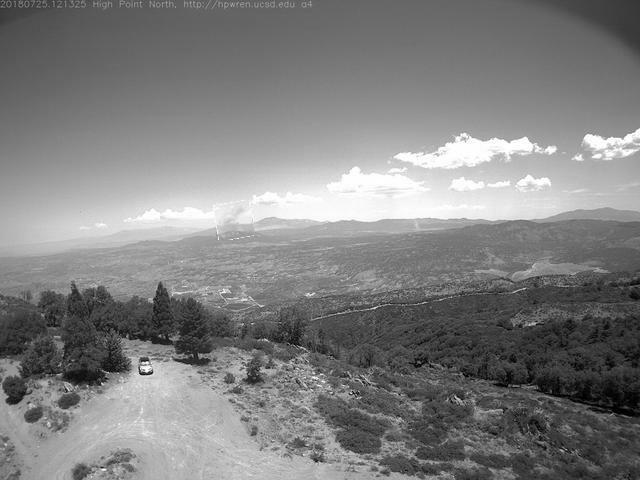smoke: (216, 203, 255, 241)
